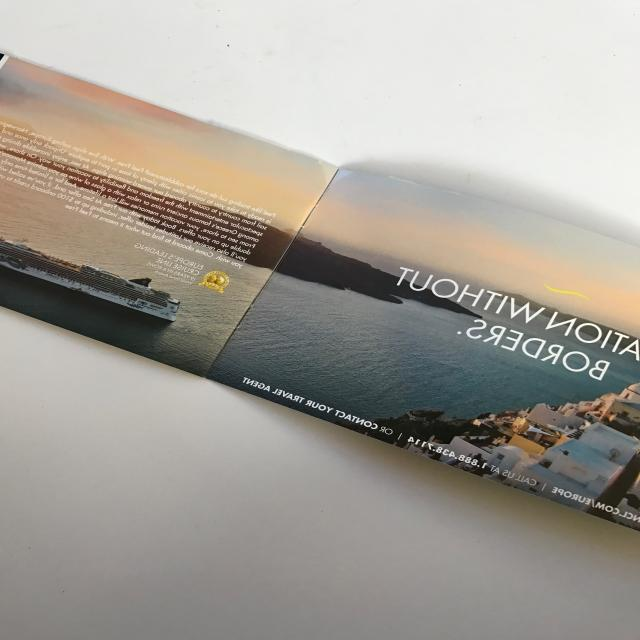paper: (0, 39, 640, 538)
